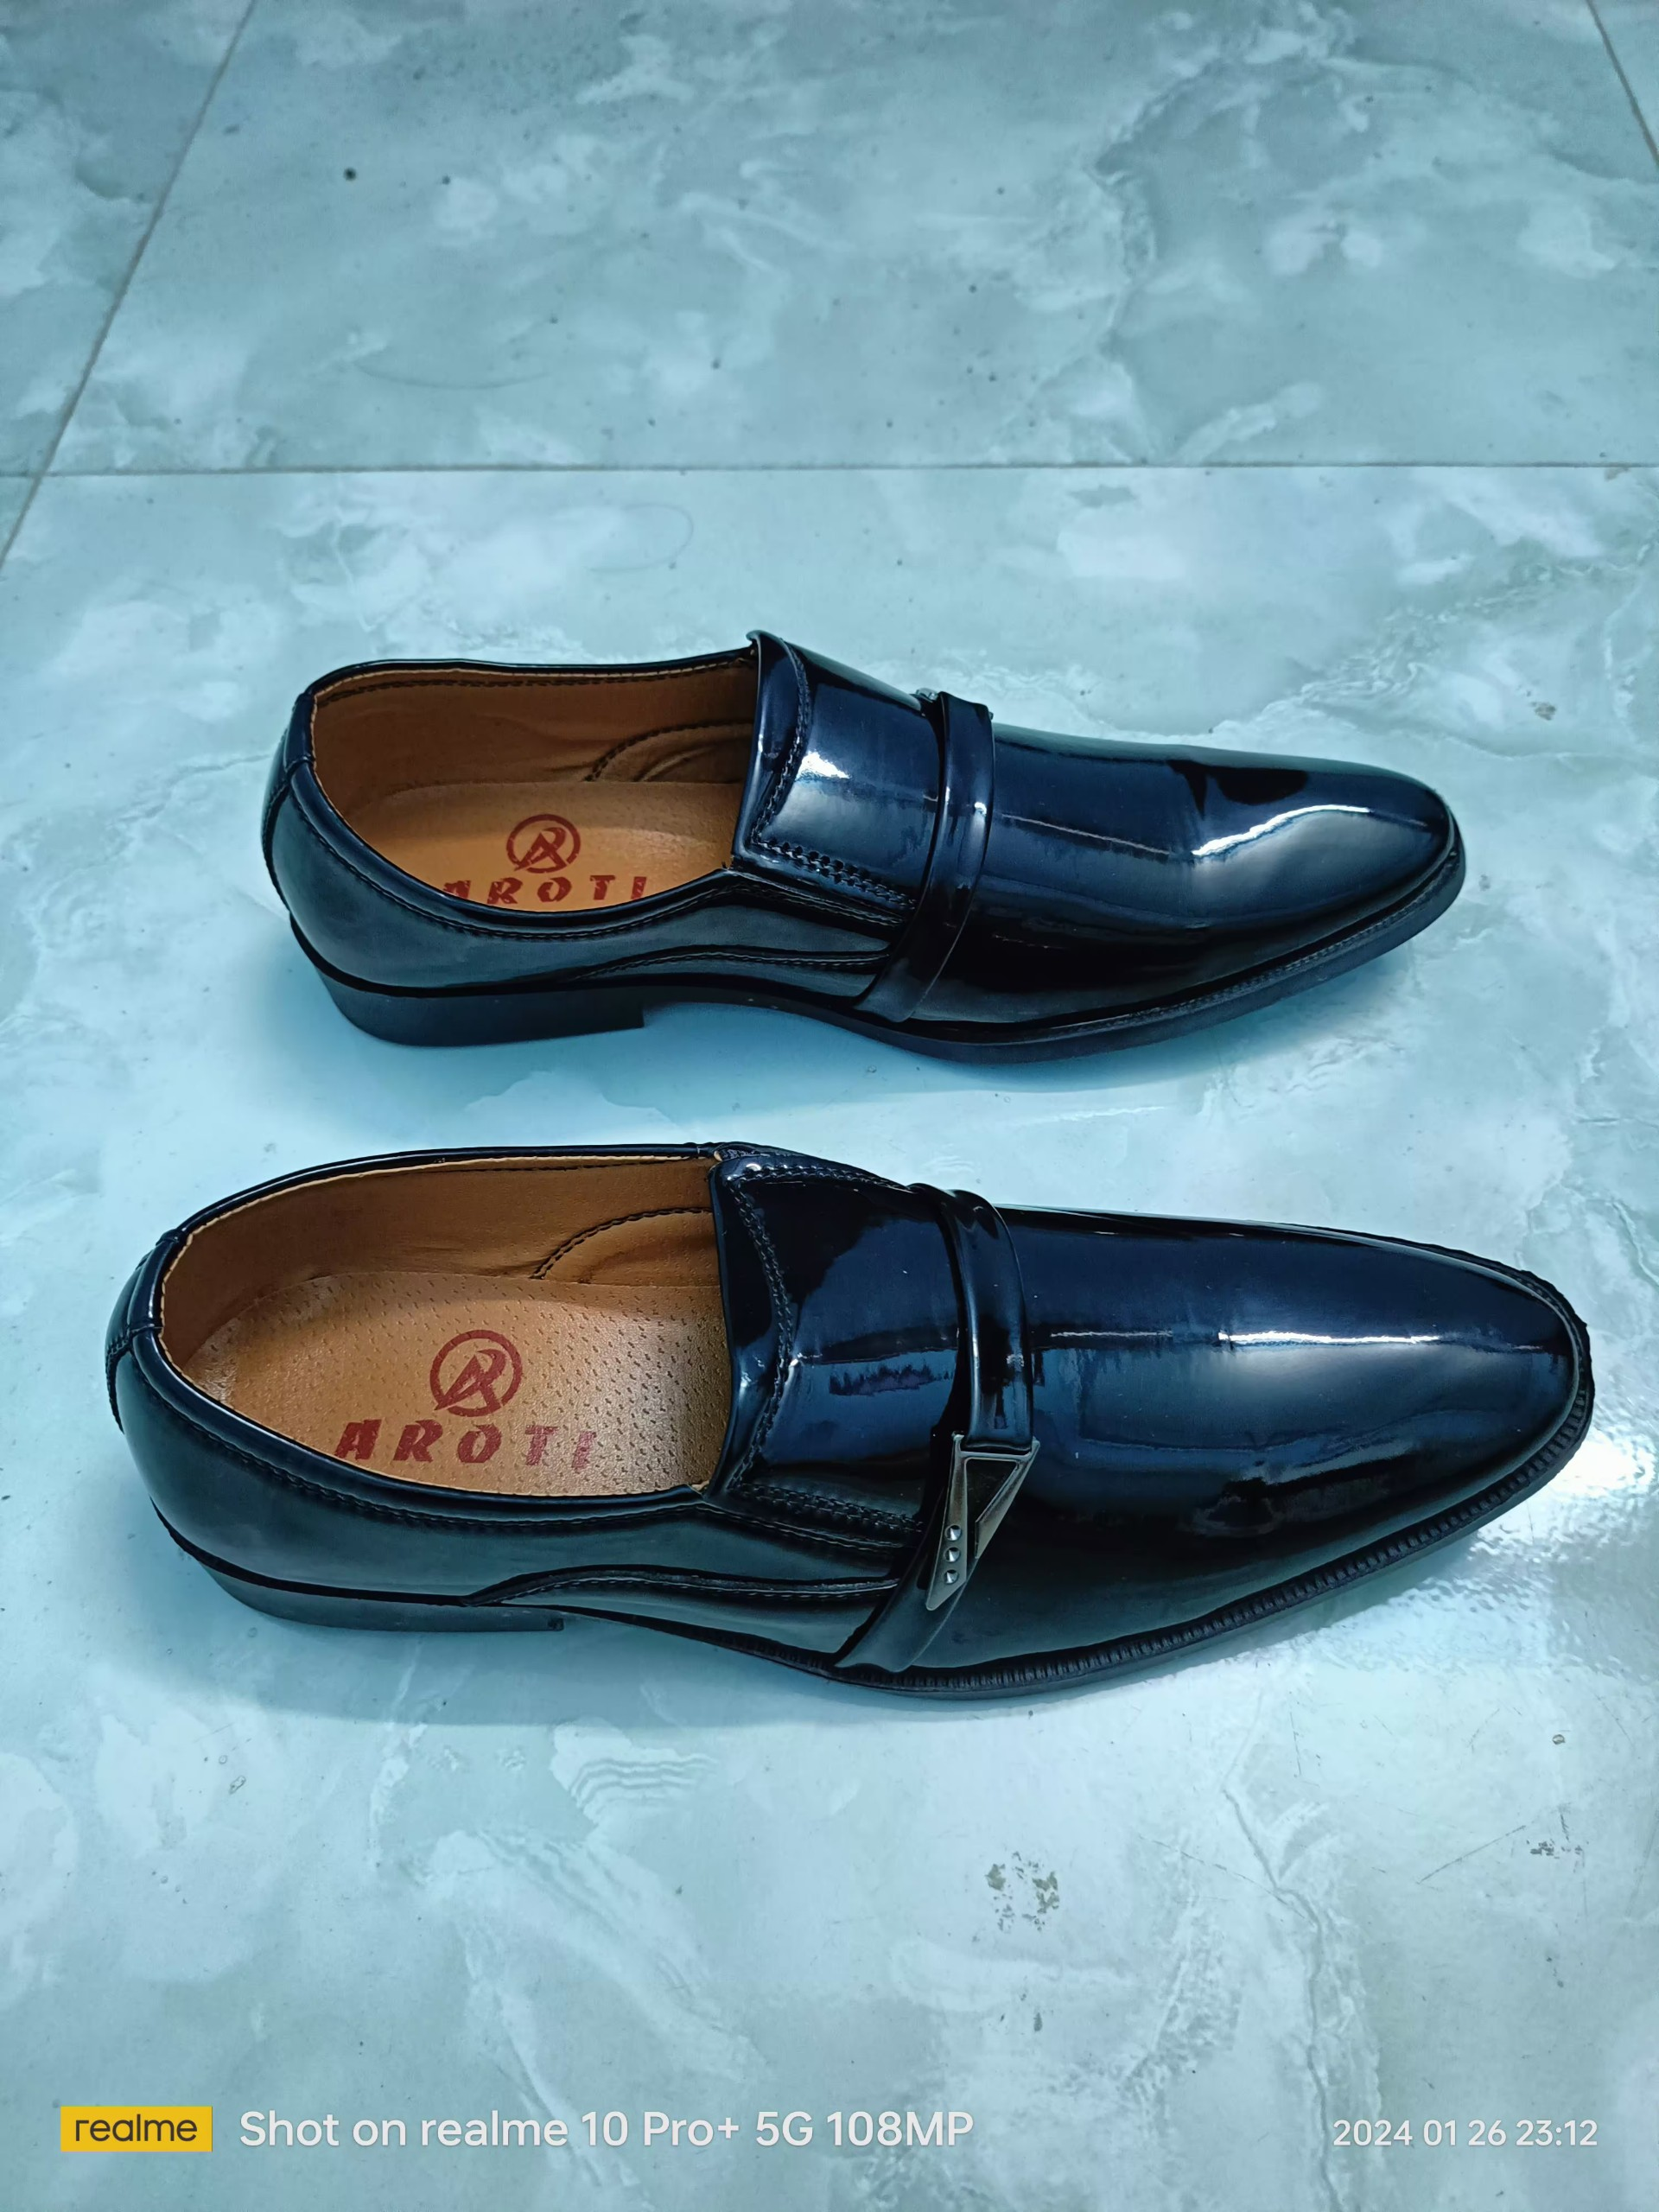loafers: (98, 1134, 1615, 1712), (256, 627, 1473, 1047)
